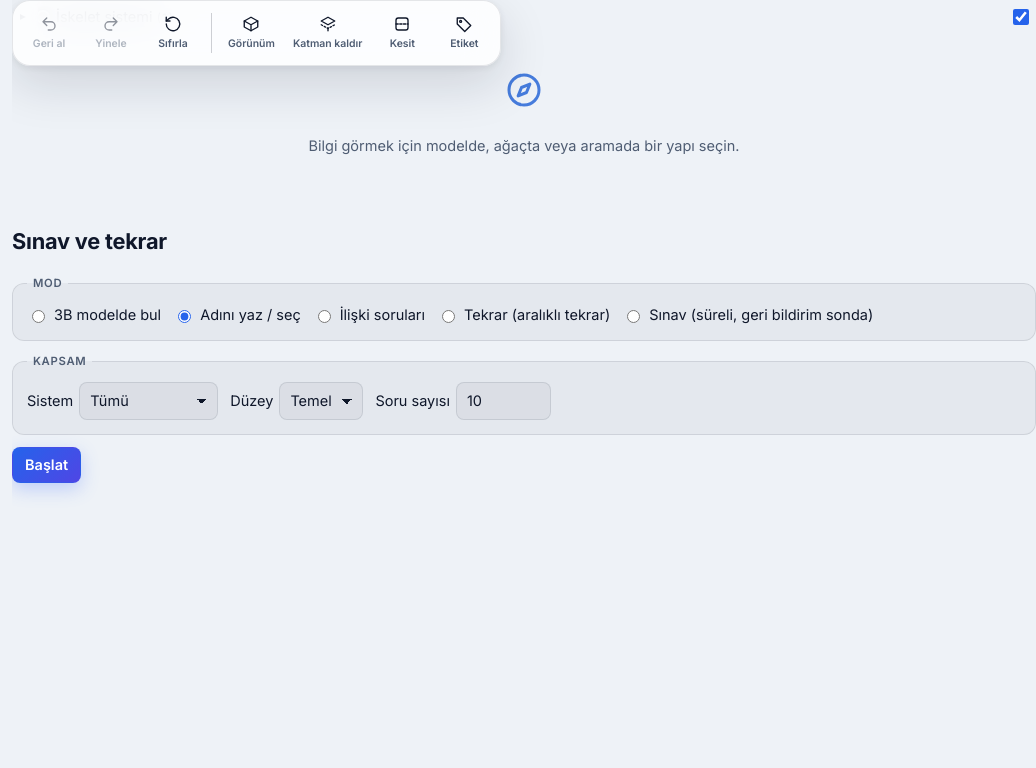
Test: UI shell › refuses to generate questions from unsourced names and says why
Click the button "Başlat" at (47, 465), box [12,447,81,483]
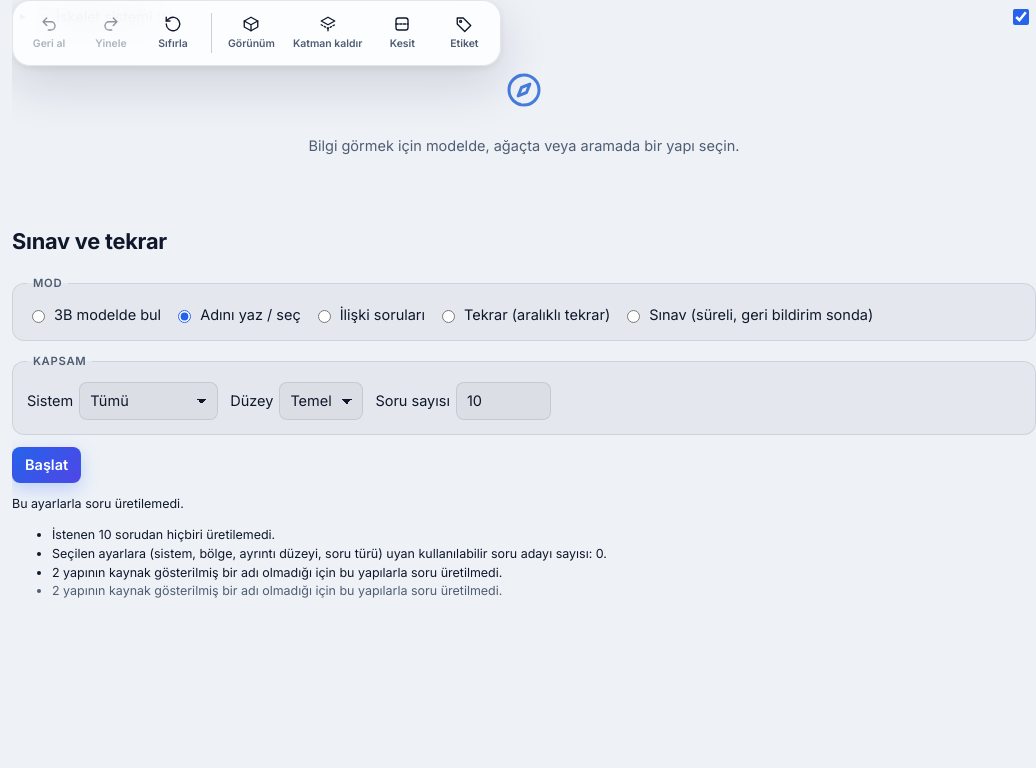
Result: the text "Bu ayarlarla soru üretilemedi." is shown at [12,496,184,511]
